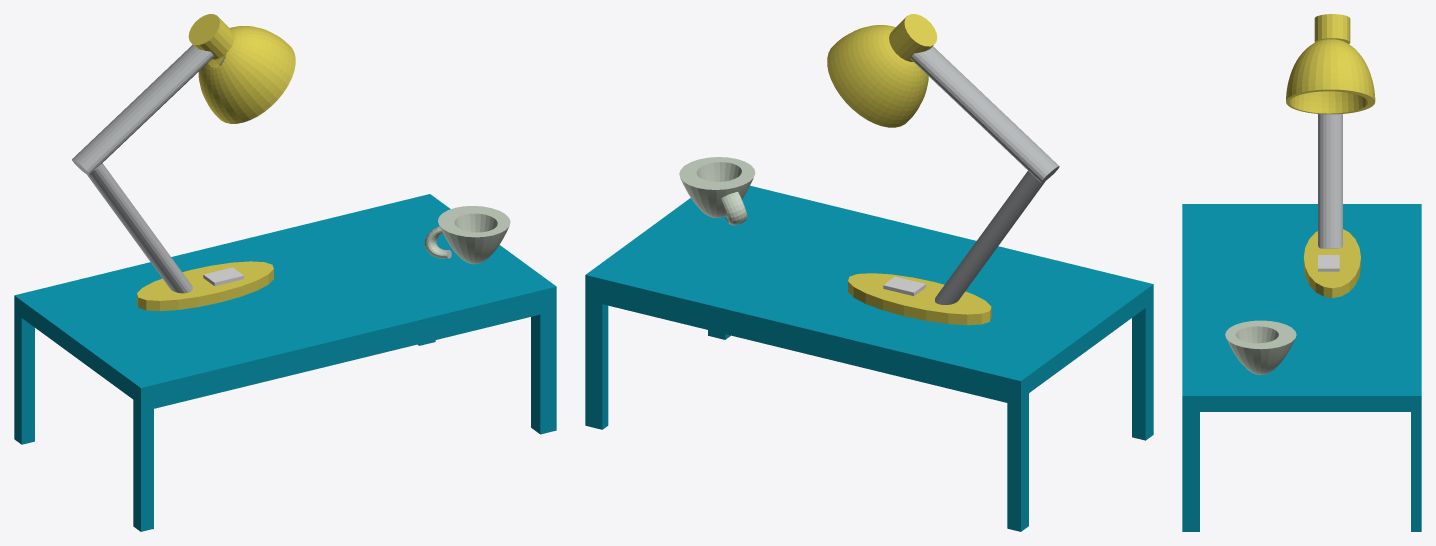
The model's file is class150.glb.
The picture shows the model from 3 angles, left to right: view 1: azimuth 30°, elevation 25°; view 2: azimuth 150°, elevation 25°; view 3: azimuth 270°, elevation 25°; orthographic projection. The views are drawn at different scales.
Visible parts, largest first — view 1: Mesh_Mesh_head_geo.001_lambert2SG.001; view 2: Mesh_Mesh_head_geo.001_lambert2SG.001; view 3: Mesh_Mesh_head_geo.001_lambert2SG.001.
Part boxes in pixels (x1,y1,x2,y2): Mesh_Mesh_head_geo.001_lambert2SG.001: (14,14,556,531); Mesh_Mesh_head_geo.001_lambert2SG.001: (585,14,1153,531); Mesh_Mesh_head_geo.001_lambert2SG.001: (1182,14,1421,531).
Size of the model in its own units: 127 by 123 by 67.
